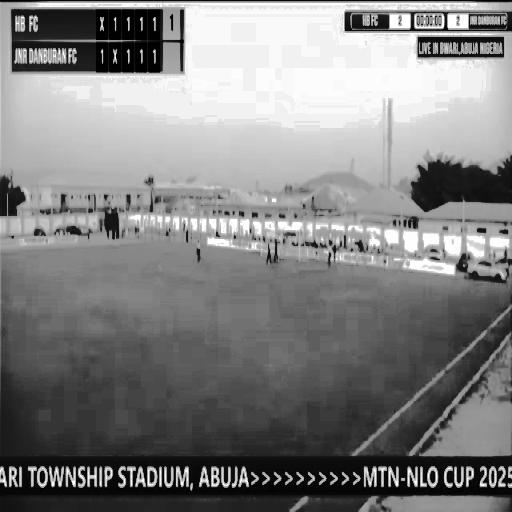keeper1: (272, 234, 280, 264)
referee: (196, 236, 204, 264)
team2: (263, 242, 272, 264)
